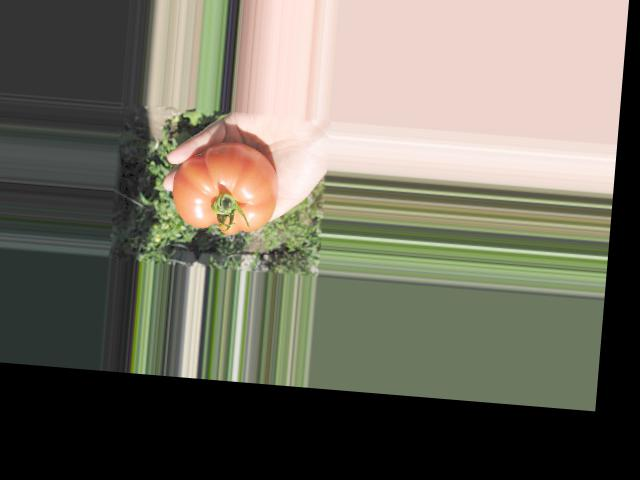tomato: (168, 138, 280, 237)
